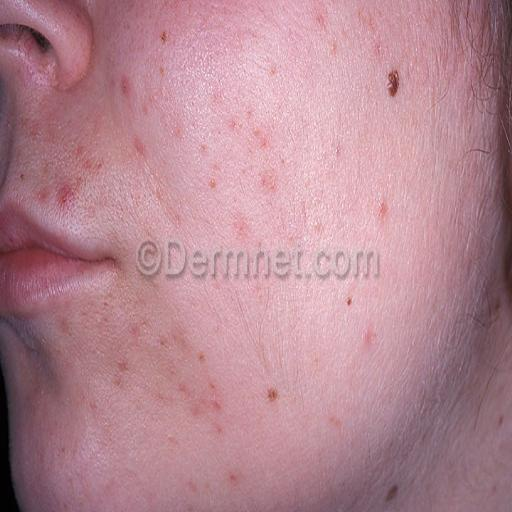Skin_Lesion: (253, 168, 278, 198), (75, 137, 96, 171), (385, 64, 402, 104), (167, 430, 184, 464), (58, 183, 76, 215), (232, 222, 250, 254), (383, 480, 401, 511), (112, 360, 130, 390), (361, 323, 378, 353), (175, 373, 192, 400), (167, 207, 185, 232), (250, 126, 266, 152), (224, 472, 242, 495), (130, 312, 145, 339), (262, 384, 280, 406), (34, 182, 49, 208), (229, 112, 243, 138), (312, 8, 327, 32), (375, 198, 389, 220), (342, 290, 354, 315), (328, 410, 343, 430), (156, 324, 167, 350), (211, 396, 226, 415), (132, 137, 146, 157), (119, 78, 130, 100), (328, 38, 338, 62), (195, 394, 202, 424), (309, 354, 321, 371), (215, 421, 225, 440), (204, 177, 218, 190), (196, 344, 203, 368), (269, 64, 279, 80), (206, 380, 216, 394), (496, 413, 505, 426), (159, 34, 169, 45), (154, 185, 160, 195)
